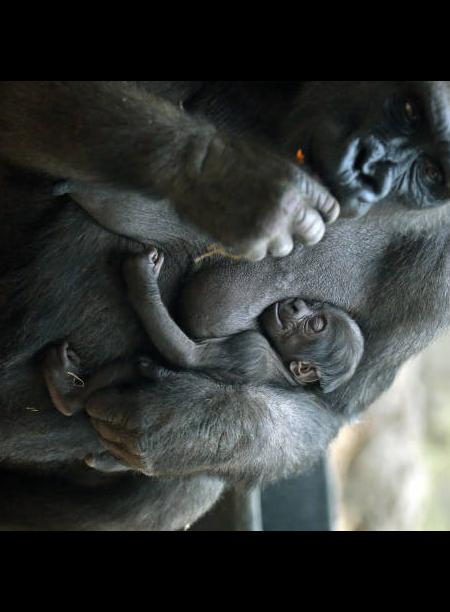gorille_Autres: (0, 86, 450, 528)
